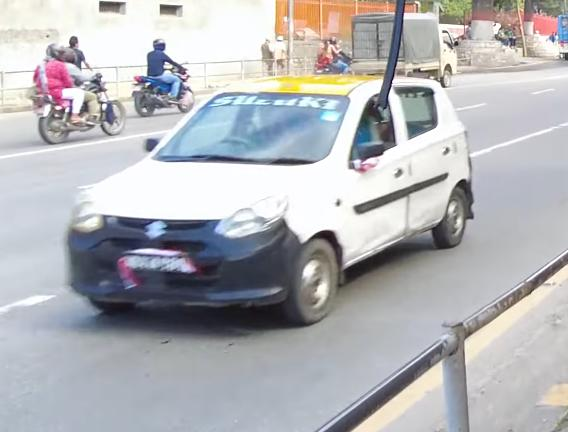bike: (26, 71, 129, 146), (129, 61, 194, 119)
taxi: (54, 61, 479, 330)
